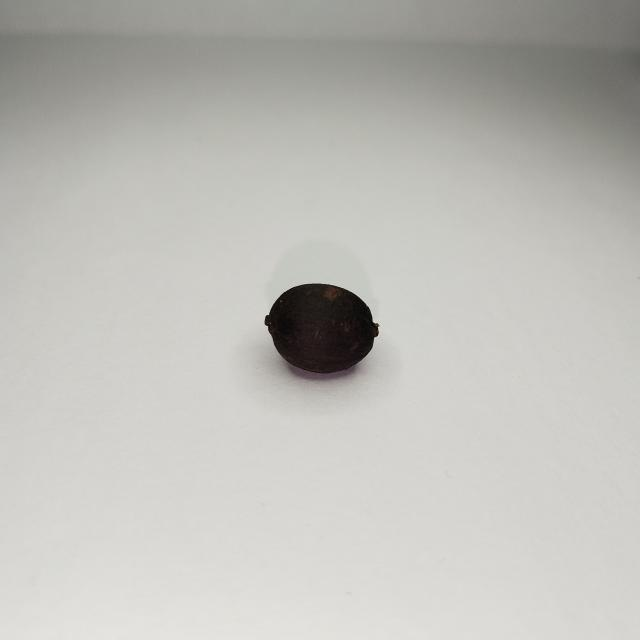Danado: (265, 286, 379, 374)
